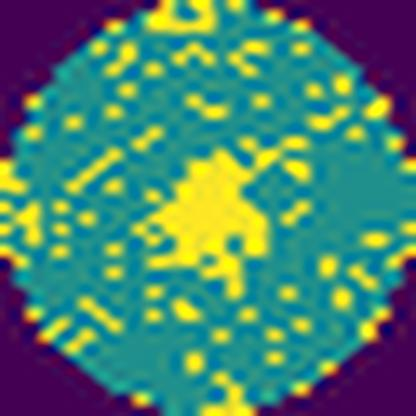Center: (145, 148, 270, 271)
